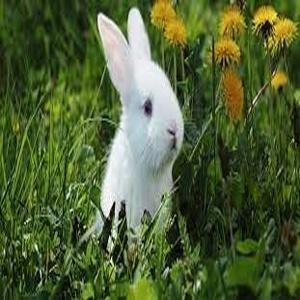rabbit: (97, 8, 183, 228)
